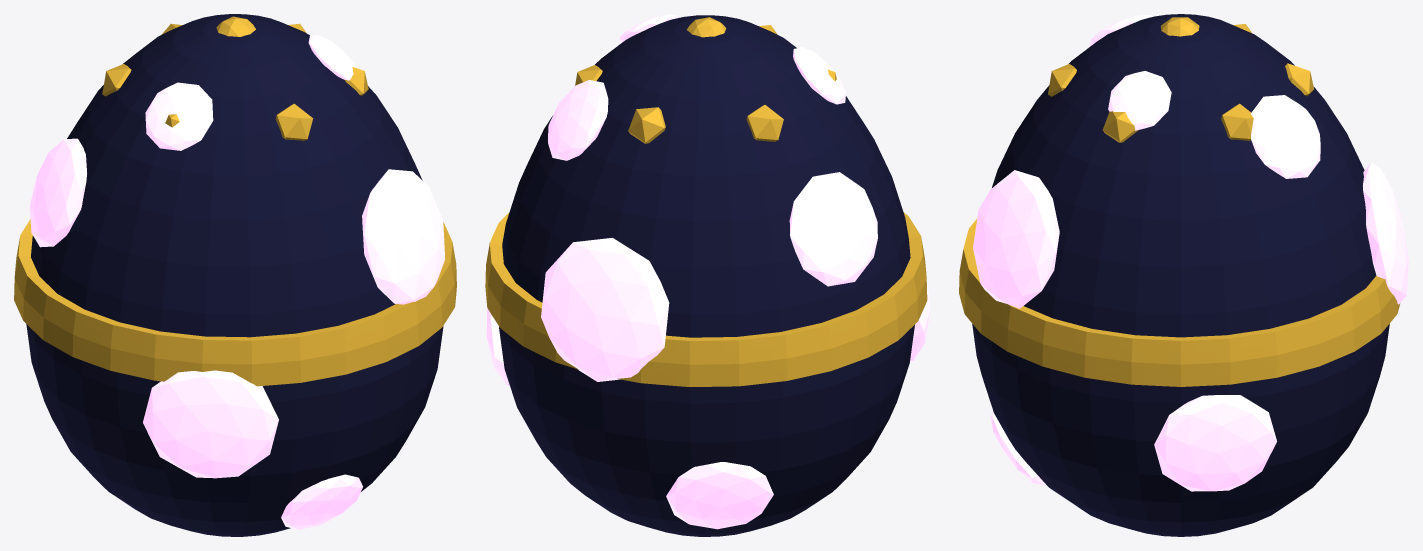
File: NebulaEgg.fbx
The picture shows the model from 3 angles, left to right: view 1: azimuth 30°, elevation 25°; view 2: azimuth 150°, elevation 25°; view 3: azimuth 270°, elevation 25°; orthographic projection.
Visible parts, largest first — view 1: Egg_14163A, Egg_C86BFF_Neon, Egg_FFC83A_Metal; view 2: Egg_14163A, Egg_C86BFF_Neon, Egg_FFC83A_Metal; view 3: Egg_14163A, Egg_C86BFF_Neon, Egg_FFC83A_Metal.
Part boxes in pixels (left/top/right/bottom): Egg_14163A: left=26, top=14, right=443, bottom=536; Egg_C86BFF_Neon: left=29, top=35, right=445, bottom=529; Egg_FFC83A_Metal: left=14, top=16, right=456, bottom=386; Egg_14163A: left=499, top=15, right=914, bottom=536; Egg_C86BFF_Neon: left=486, top=14, right=930, bottom=529; Egg_FFC83A_Metal: left=485, top=17, right=927, bottom=386; Egg_14163A: left=972, top=14, right=1389, bottom=536; Egg_C86BFF_Neon: left=973, top=15, right=1408, bottom=491; Egg_FFC83A_Metal: left=959, top=17, right=1400, bottom=386.
Bounding box in the file's own units: 2.13 × 2.64 × 2.15.
